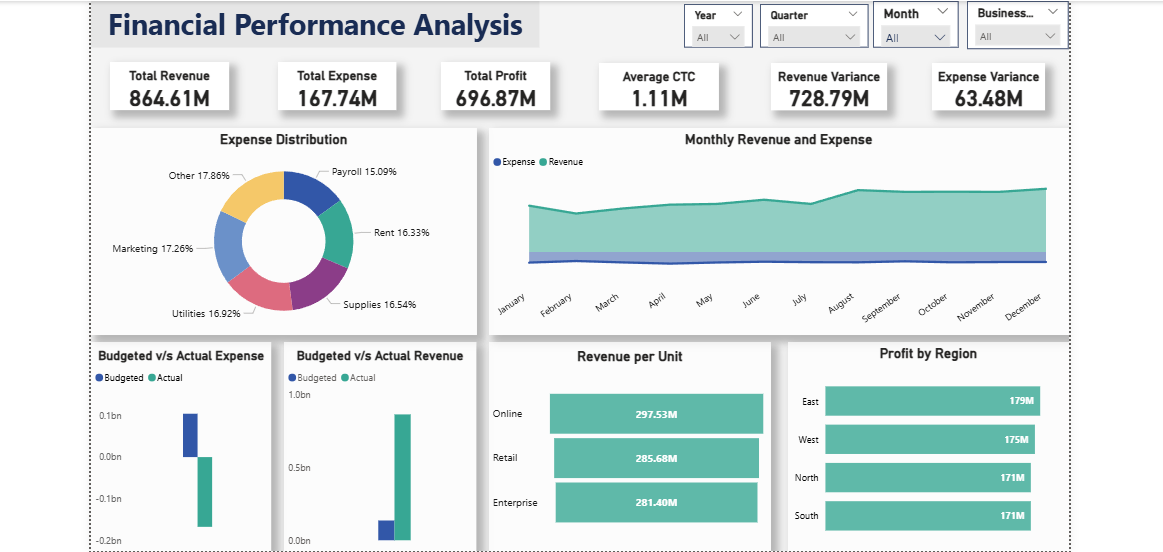

The dashboard page shown, as its layout file describes it:
{"tool":"powerbi","page":{"name":"Page 1","canvas":[1280,720],"ordinal":0},"visuals":[{"type":"donutChart","title":"Expense Distribution","fields":{"Category":["Financial_Transactions.Category"],"Y":["Sum(Financial_Transactions.Amount)"]},"box":[0,166.5,504.5,271],"z":0},{"type":"areaChart","title":"Monthly Revenue and Expense","fields":{"Category":["Financial_Transactions.Transaction_date.Variation.Date Hierarchy.Month"],"Y":["Sum(Financial_Transactions.Amount)"],"Series":["Financial_Transactions.Account_type"]},"box":[521.3,166.5,758.7,271],"z":1000},{"type":"slicer","fields":{"Values":["Financial_Transactions.Transaction_date.Variation.Date Hierarchy.Year"]},"box":[776.8,3.9,90.3,56.8],"z":2000},{"type":"slicer","fields":{"Values":["Financial_Transactions.Transaction_date.Variation.Date Hierarchy.Quarter"]},"box":[876.1,3.9,141.9,56.8],"z":3000},{"type":"slicer","fields":{"Values":["Financial_Transactions.Business_unit"]},"box":[1147.1,0,132.9,63.2],"z":4000},{"type":"clusteredColumnChart","title":"Budgeted v/s Actual Expense","fields":{"Y":["Sum(Budget.Budgeted_expense)","Sum(Financial_Transactions.Amount)"]},"box":[0,446.5,236.1,273.5],"z":5000},{"type":"clusteredColumnChart","title":"Budgeted v/s Actual Revenue","fields":{"Y":["Sum(Budget.Budgeted_revenue)","Sum(Financial_Transactions.Amount)"]},"box":[252.9,446.5,251.6,273.5],"z":6000},{"type":"funnel","title":"Revenue per Unit","fields":{"Category":["Financial_Transactions.Business_unit"],"Y":["Sum(Financial_Transactions.Amount)"]},"box":[521.3,446.5,369,273.5],"z":7000},{"type":"textbox","box":[0,0,587.1,60.6],"z":8000},{"type":"card","title":"Total Revenue","fields":{"Values":["Sum(Financial_Transactions.Amount)"]},"box":[24.5,80,156.1,63.2],"z":9000},{"type":"card","title":"Average CTC ","fields":{"Values":["Budget.Avg_CTC_per_Employee"]},"box":[664.5,81.3,157.4,61.9],"z":10000},{"type":"card","title":"Revenue Variance","fields":{"Values":["Budget.Revenue_Variance"]},"box":[890.3,81.3,152.3,61.9],"z":11000},{"type":"card","title":"Total Expense","fields":{"Values":["Budget.Total_Expense"]},"box":[245.2,80,154.8,63.2],"z":12000},{"type":"card","title":"Total Profit","fields":{"Values":["Sum(Financial_Transactions.Amount)"]},"box":[458.1,80,143.2,63.2],"z":13000},{"type":"card","title":"Expense Variance","fields":{"Values":["Financial_Transactions.Expense_Variance"]},"box":[1100.6,80.8,148.4,61.7],"z":14000},{"type":"barChart","title":"Profit by Region","fields":{"Category":["Financial_Transactions.Region"],"Y":["Sum(Financial_Transactions.Amount)"]},"box":[912.3,446.5,367.7,273.5],"z":15000},{"type":"slicer","fields":{"Values":["Financial_Transactions.Transaction_date.Variation.Date Hierarchy.Month"]},"box":[1023.2,0,112.3,60.6],"z":16000}]}

Visuals, with their boxes on the page's 1280x720 design canvas (x1, y1, x2, y2). These are canvas units, not pixel positions in the 1163x552 screenshot, which may show the page scaled, cropped or inside an application window:
"Expense Distribution" donutChart: locate(0, 166, 504, 438)
"Monthly Revenue and Expense" areaChart: locate(521, 166, 1280, 438)
slicer - Financial_Transactions.Transaction_date.Variation.Date Hierarchy.Year: locate(777, 4, 867, 61)
slicer - Financial_Transactions.Transaction_date.Variation.Date Hierarchy.Quarter: locate(876, 4, 1018, 61)
slicer - Financial_Transactions.Business_unit: locate(1147, 0, 1280, 63)
"Budgeted v/s Actual Expense" clusteredColumnChart: locate(0, 446, 236, 720)
"Budgeted v/s Actual Revenue" clusteredColumnChart: locate(253, 446, 504, 720)
"Revenue per Unit" funnel: locate(521, 446, 890, 720)
textbox: locate(0, 0, 587, 61)
"Total Revenue" card: locate(24, 80, 181, 143)
"Average CTC " card: locate(664, 81, 822, 143)
"Revenue Variance" card: locate(890, 81, 1043, 143)
"Total Expense" card: locate(245, 80, 400, 143)
"Total Profit" card: locate(458, 80, 601, 143)
"Expense Variance" card: locate(1101, 81, 1249, 142)
"Profit by Region" barChart: locate(912, 446, 1280, 720)
slicer - Financial_Transactions.Transaction_date.Variation.Date Hierarchy.Month: locate(1023, 0, 1136, 61)
